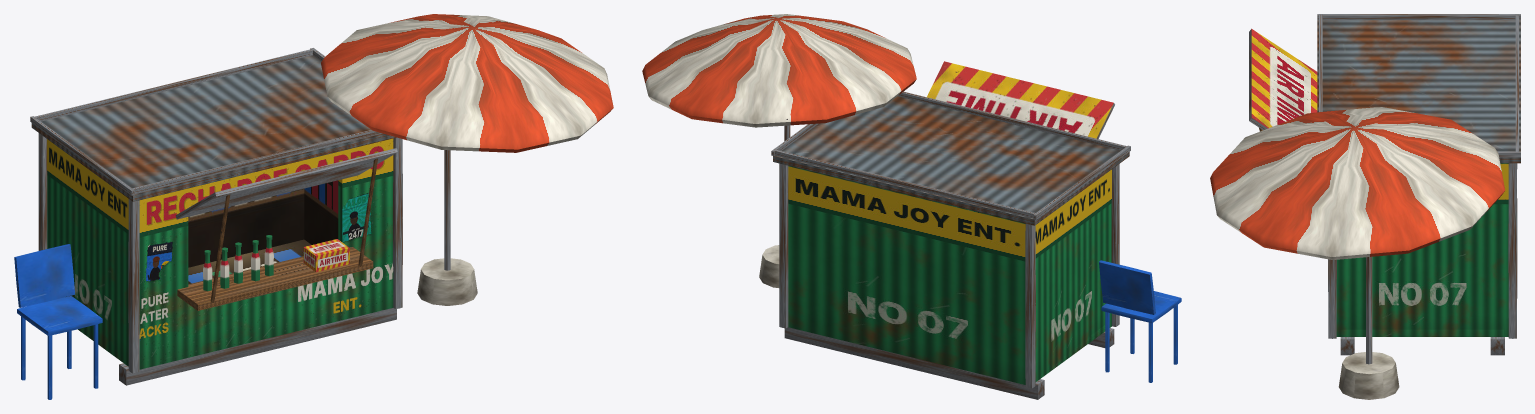
Rendered from env_kiosk.glb.
3 views of the same model, side by side, from view 1: azimuth 30°, elevation 25°; view 2: azimuth 150°, elevation 25°; view 3: azimuth 270°, elevation 25° (orthographic). The views are drawn at different scales.
Visible parts, largest first — view 1: env_kiosk_body; view 2: env_kiosk_body; view 3: env_kiosk_body.
Boxes of the visible parts, box(x1,y1,x2,y2) form: env_kiosk_body: box(14, 14, 613, 399); env_kiosk_body: box(642, 14, 1181, 399); env_kiosk_body: box(1210, 14, 1520, 399).
Bounding box in the file's own units: 3.59 × 1.65 × 1.74.
Materials: 1 (1 with a texture image).
